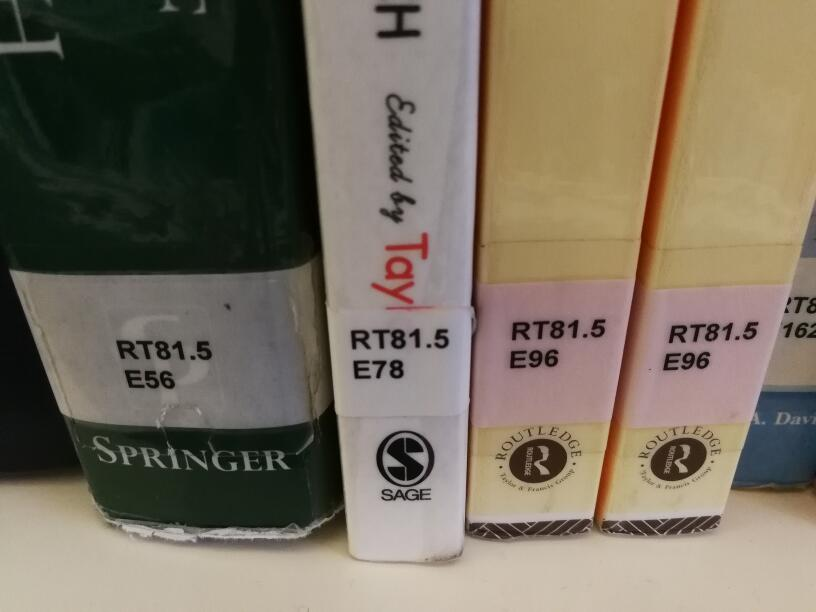booklabel: (346, 326, 453, 381), (113, 336, 215, 391), (659, 319, 761, 373), (506, 316, 607, 370)
